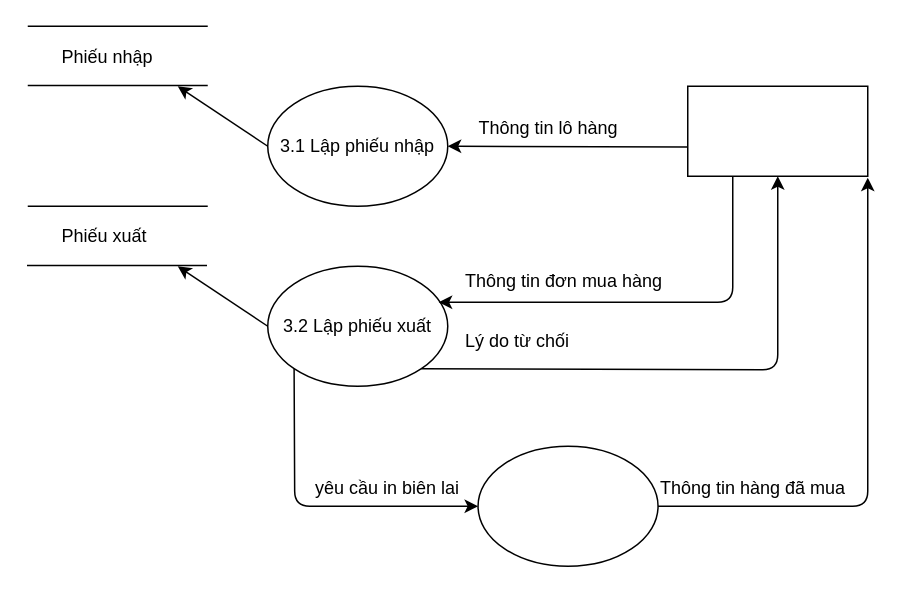
The diagram is 906 pixels wide and 593 high, and some of its shapes have lost their labels. The centre of each missing label's shape, as x and y in pixels:
"3.3 In Biên lai" belongs at (567,505).
"Nhân viên" belongs at (777,130).
